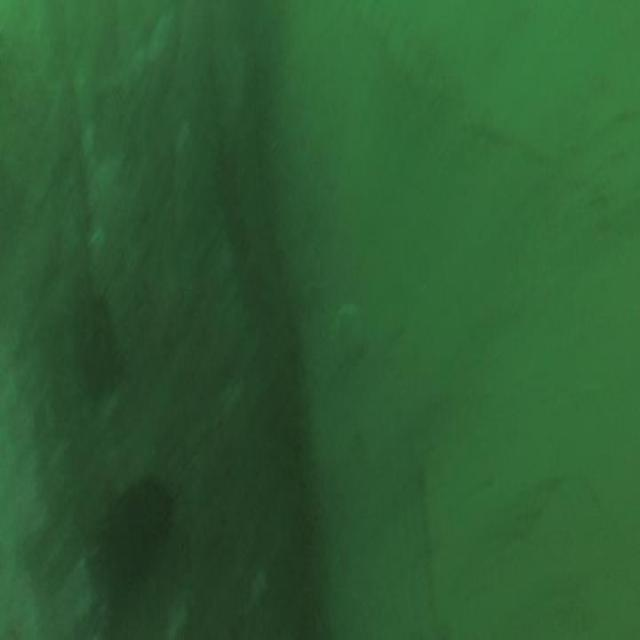echinus: (93, 466, 177, 621), (72, 288, 120, 404)
